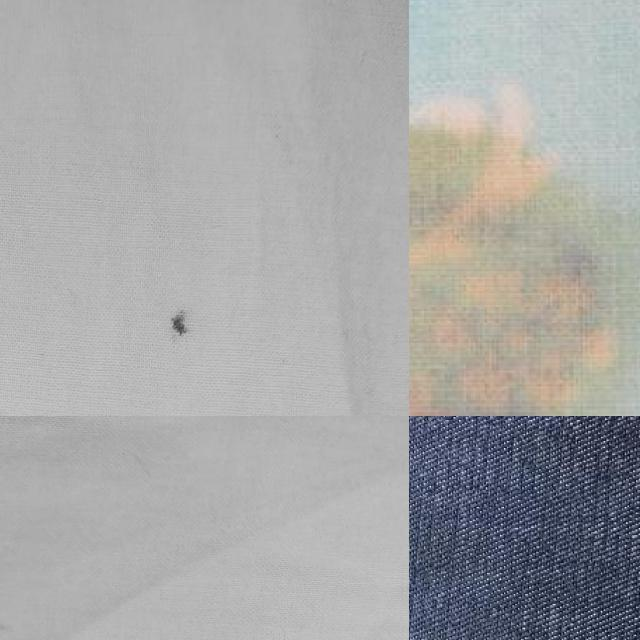Thread_other: (133, 279, 217, 369)
